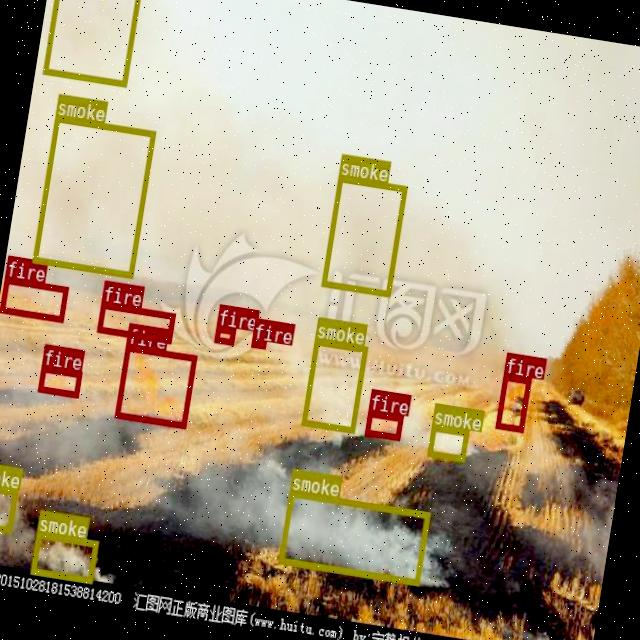fire: (114, 344, 197, 427), (96, 302, 175, 342), (0, 276, 67, 321), (494, 373, 530, 432), (38, 364, 82, 397), (364, 410, 403, 440), (213, 325, 236, 344), (250, 339, 265, 348)
smoke: (32, 115, 155, 276), (278, 490, 430, 584), (321, 176, 407, 296), (42, 0, 141, 85), (301, 338, 368, 432), (31, 531, 98, 582), (426, 424, 469, 462), (0, 481, 17, 533)
